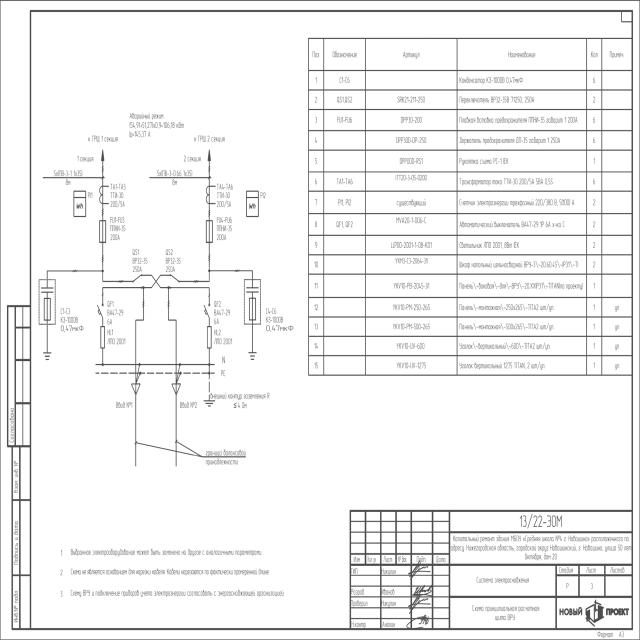-: (105, 308, 127, 326), (214, 190, 232, 210), (109, 224, 127, 243), (216, 223, 233, 243), (213, 308, 231, 326), (130, 257, 148, 274), (109, 190, 125, 209), (164, 257, 182, 273), (213, 336, 234, 348), (106, 336, 127, 346)
FU: (205, 218, 214, 245), (98, 218, 107, 245)
HL: (207, 324, 212, 350), (100, 325, 105, 350)
QF: (96, 301, 105, 320), (203, 301, 211, 321)
TT: (205, 183, 218, 207), (98, 183, 111, 207)
WH: (73, 189, 87, 219), (246, 189, 260, 219)
switch: (167, 272, 180, 291), (132, 272, 144, 290)
